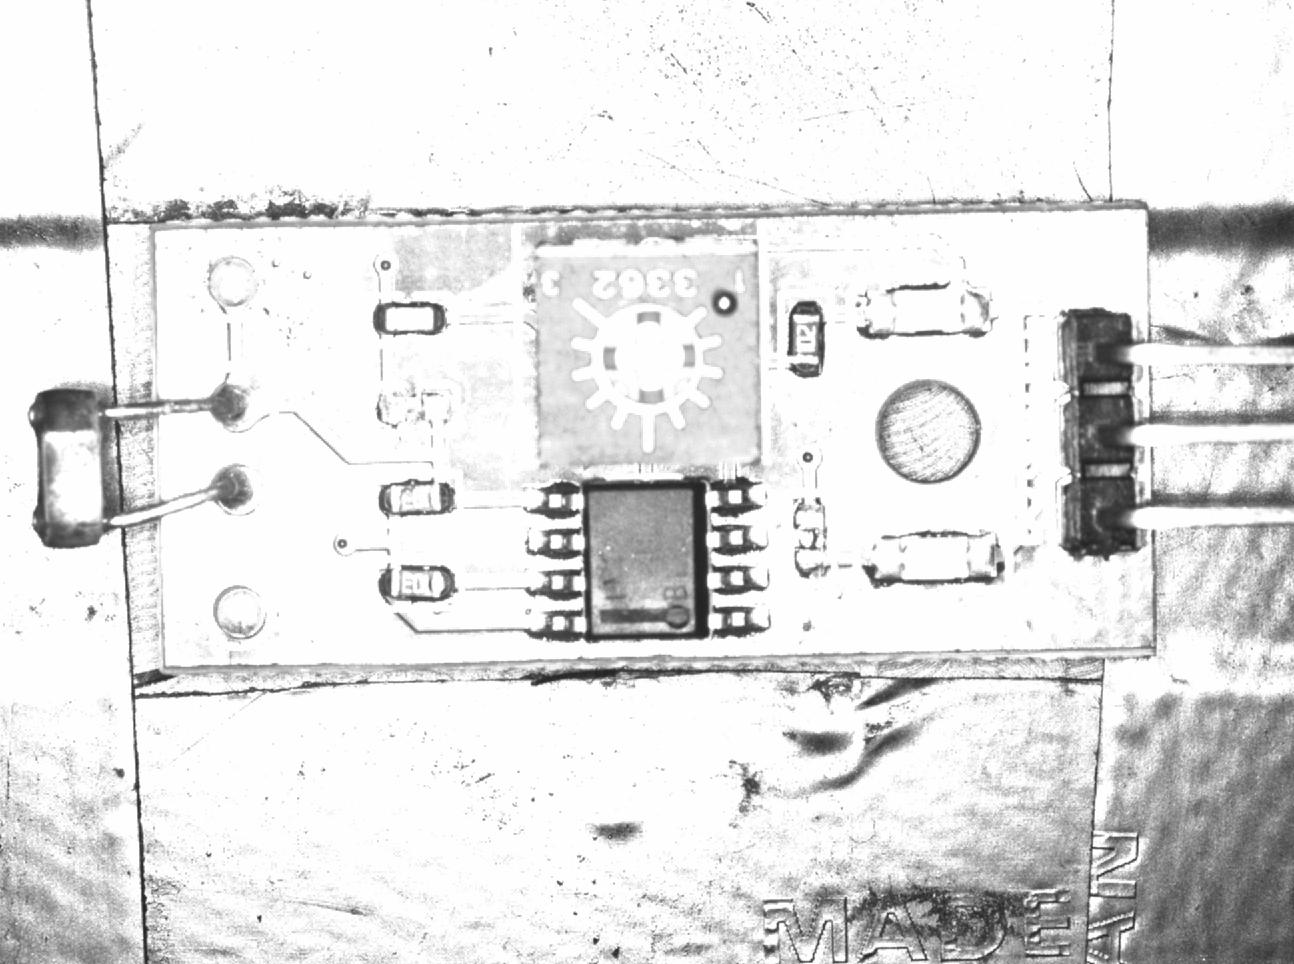miss: (780, 488, 839, 593), (363, 388, 463, 434)
ok: (360, 288, 460, 345), (780, 289, 833, 389), (369, 468, 460, 523), (375, 560, 458, 609)
